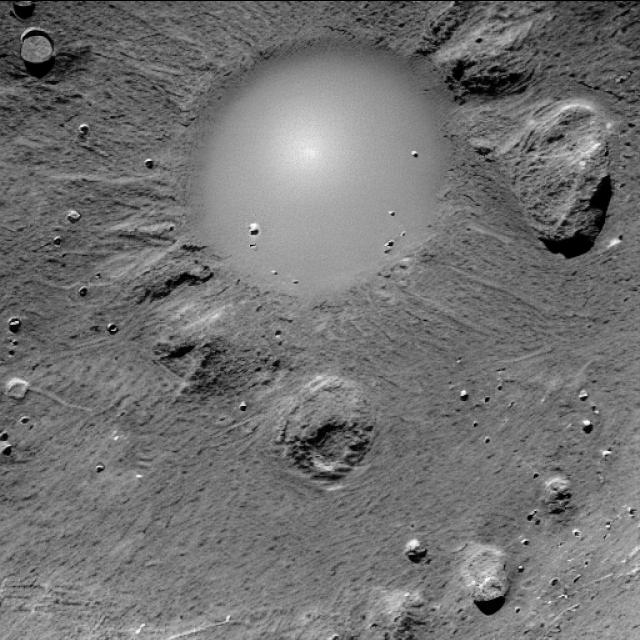crater: (177, 35, 456, 302)
